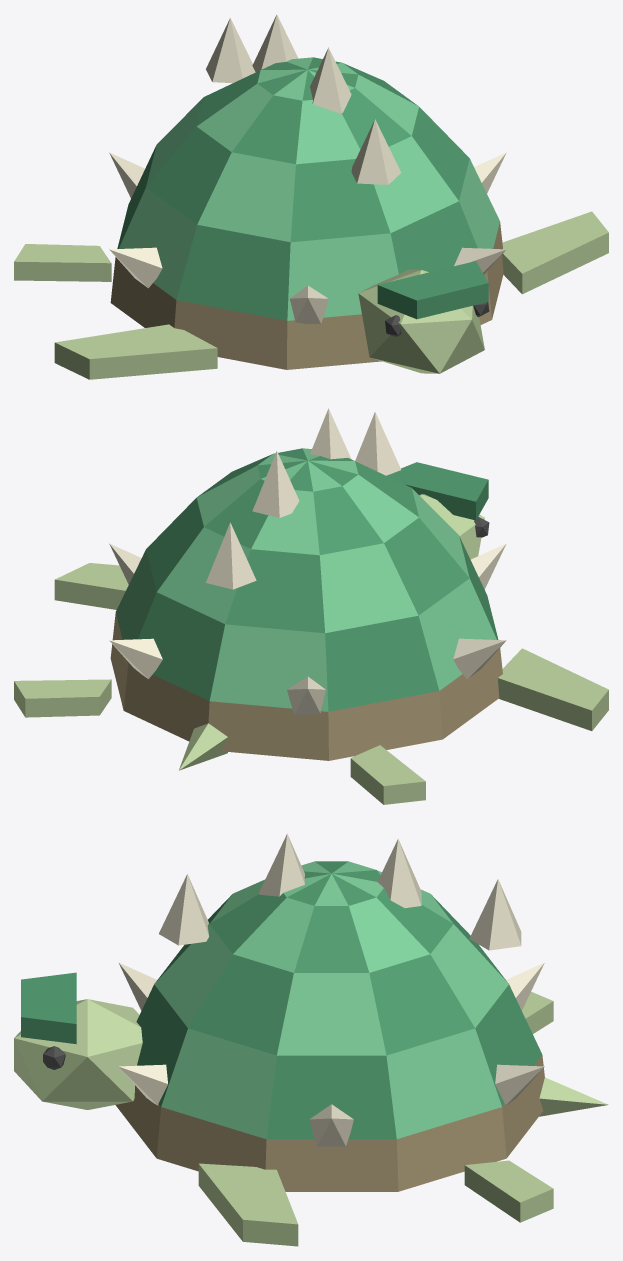
Rendered from Tanker.fbx.
3 views of the same model, one above another, from view 1: azimuth 30°, elevation 25°; view 2: azimuth 150°, elevation 25°; view 3: azimuth 270°, elevation 25° (orthographic). The views are drawn at different scales.
Visible parts, largest first — view 1: Tanker; view 2: Tanker; view 3: Tanker.
Part boxes in pixels (<box>): Tanker: <box>14,14,608,379</box>; Tanker: <box>14,408,608,804</box>; Tanker: <box>14,834,608,1246</box>.
Bounding box in the file's own units: 60 × 28 × 53.63.
